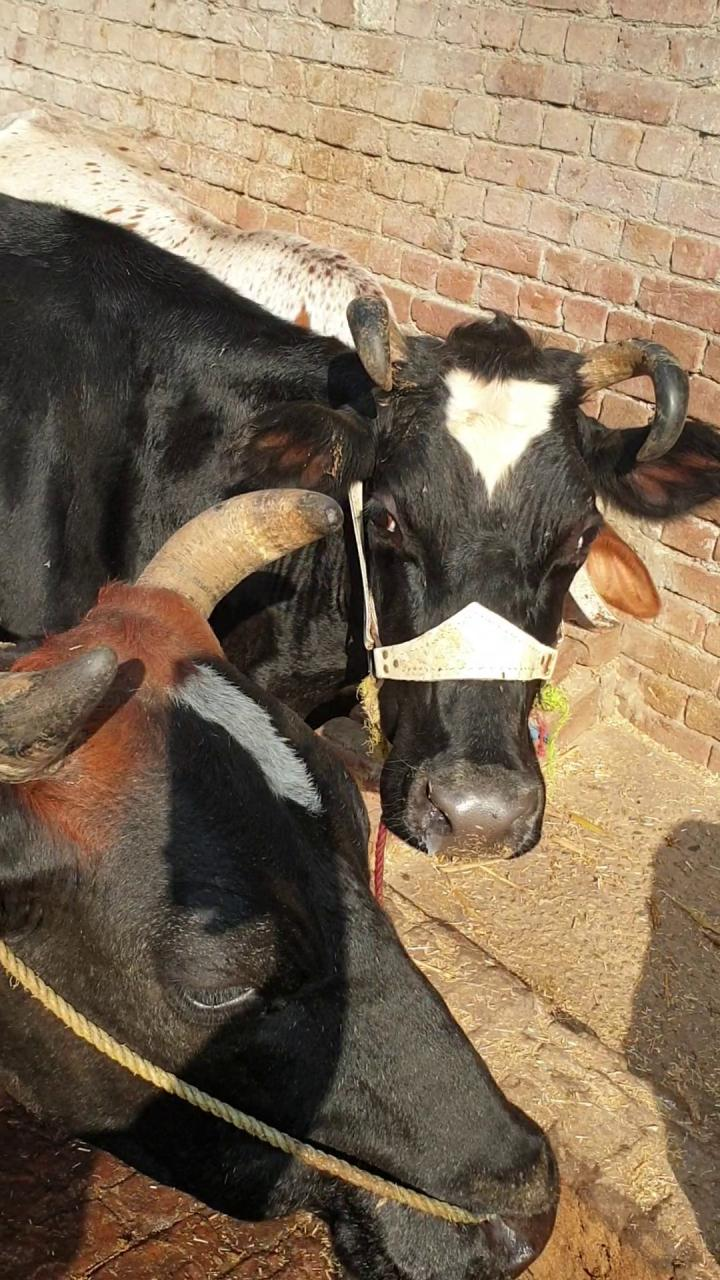cows: (47, 585, 545, 1280), (342, 283, 680, 870)
